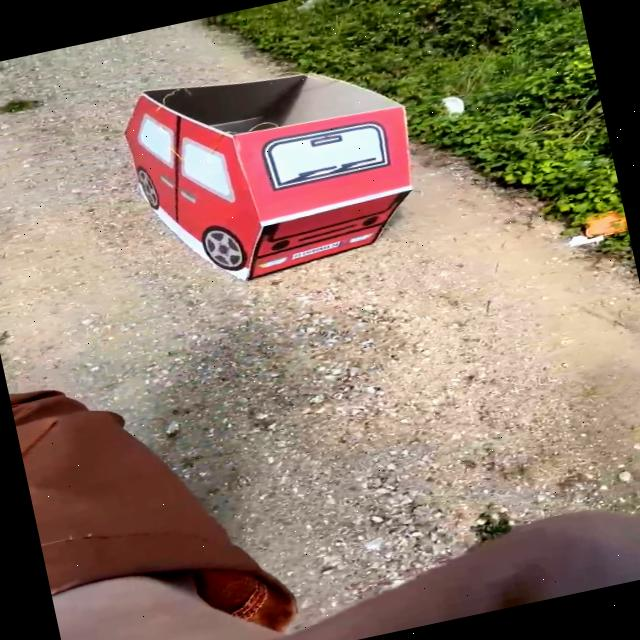red_car: (87, 26, 471, 334)
